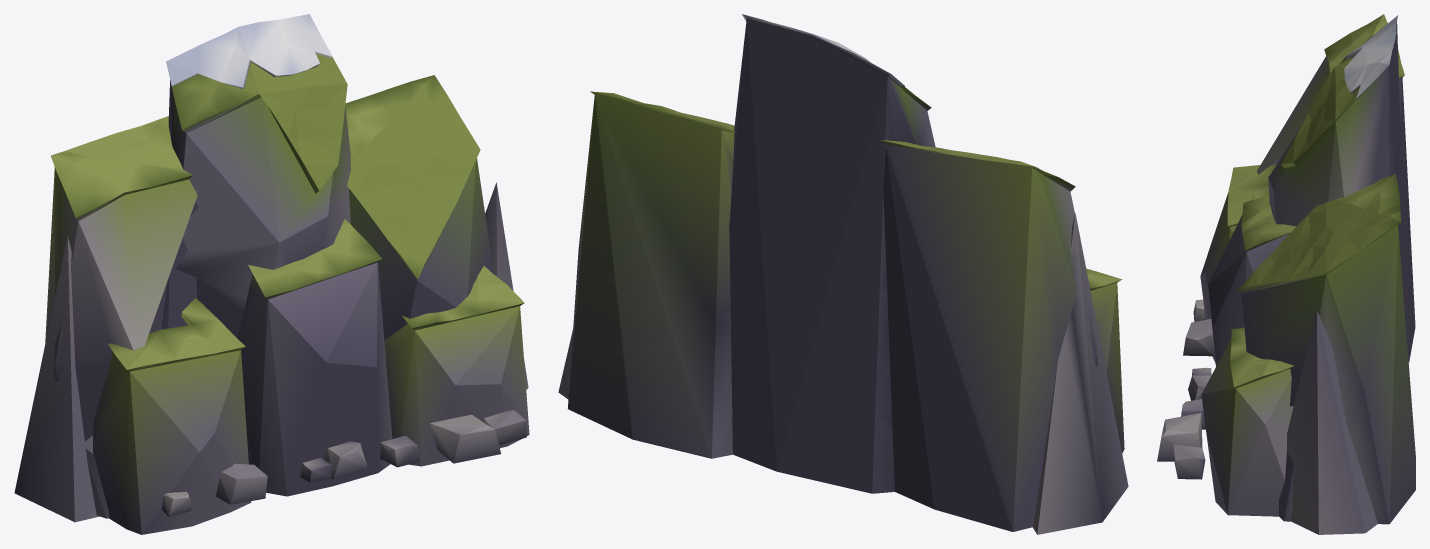
The model's file is mtn_cliff_a-lod1.glb.
3 renders of one model, left to right at view 1: azimuth 30°, elevation 25°; view 2: azimuth 150°, elevation 25°; view 3: azimuth 270°, elevation 25°, orthographic. The views are drawn at different scales.
Parts seen in each view (by area): view 1: mtn_cliff_a; view 2: mtn_cliff_a; view 3: mtn_cliff_a.
Boxes of the visible parts, x1,y1,x2,y2 form: mtn_cliff_a: (14, 14, 529, 534); mtn_cliff_a: (558, 14, 1128, 534); mtn_cliff_a: (1157, 14, 1415, 534).
Bounding box in the file's own units: 35.72 × 27.51 × 16.63.
